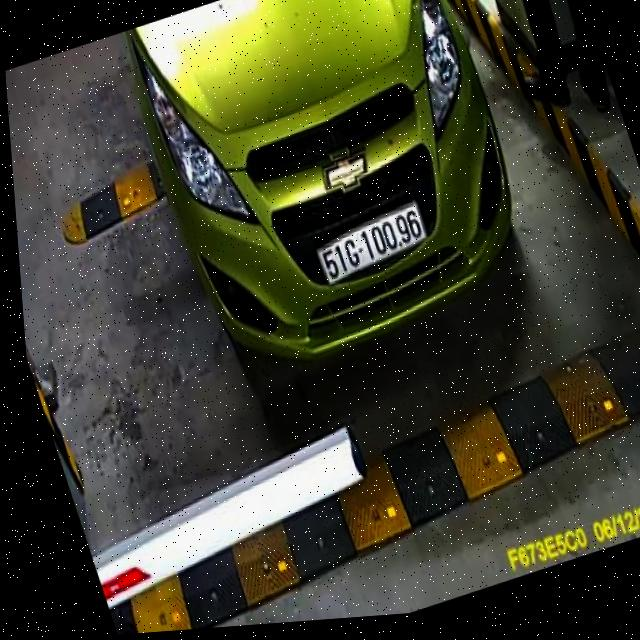car: (103, 0, 567, 418)
plate: (307, 194, 438, 292)
